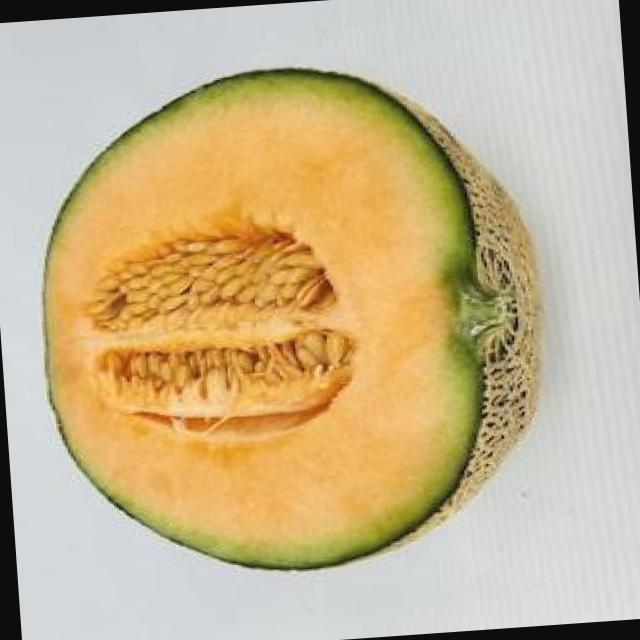cantaloupe: (27, 48, 560, 586)
